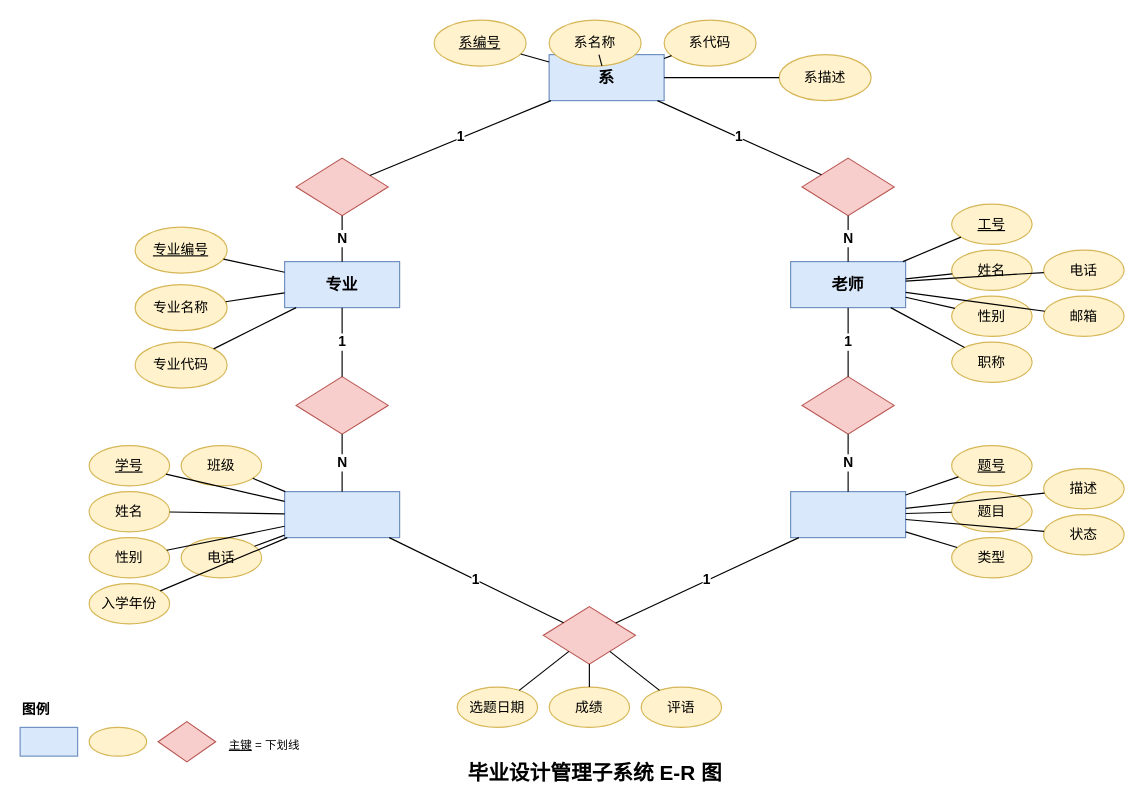
This 1144x811 diagram has some shape labels left out. The centre of each missing label's shape, as x and y in pixels:
包含: pixel 341 186
学生: pixel 341 514
实体: pixel 48 741
就读: pixel 341 404
属性: pixel 117 741
申报: pixel 847 404
联系: pixel 186 741
课题: pixel 847 514
选题: pixel 588 634
隶属: pixel 847 186
